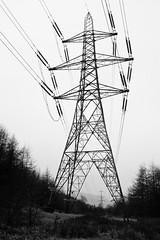power_tower: (40, 11, 137, 216)
